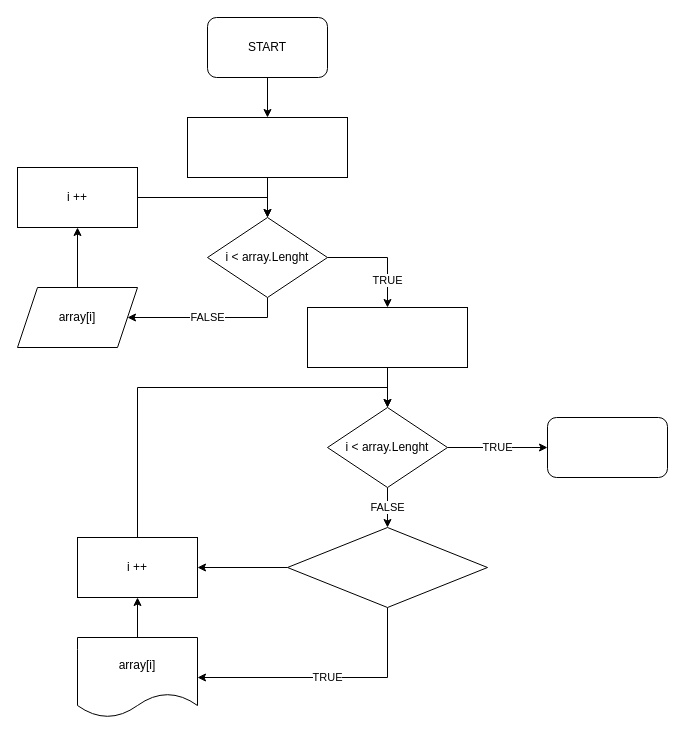
Image size: 685x735. Some labels were removed from this diagram. The shapes that lost their labels are listed below. From the top down, each one's box as (x1, y1, x2, y2) in pixels, then its label:
(186, 116, 348, 178): int index = 3 int i = 0 string[] = array[4]
(306, 306, 468, 368): int i = 0
(546, 416, 668, 478): FINISH
(286, 526, 488, 608): array[i].Lenght <= index
